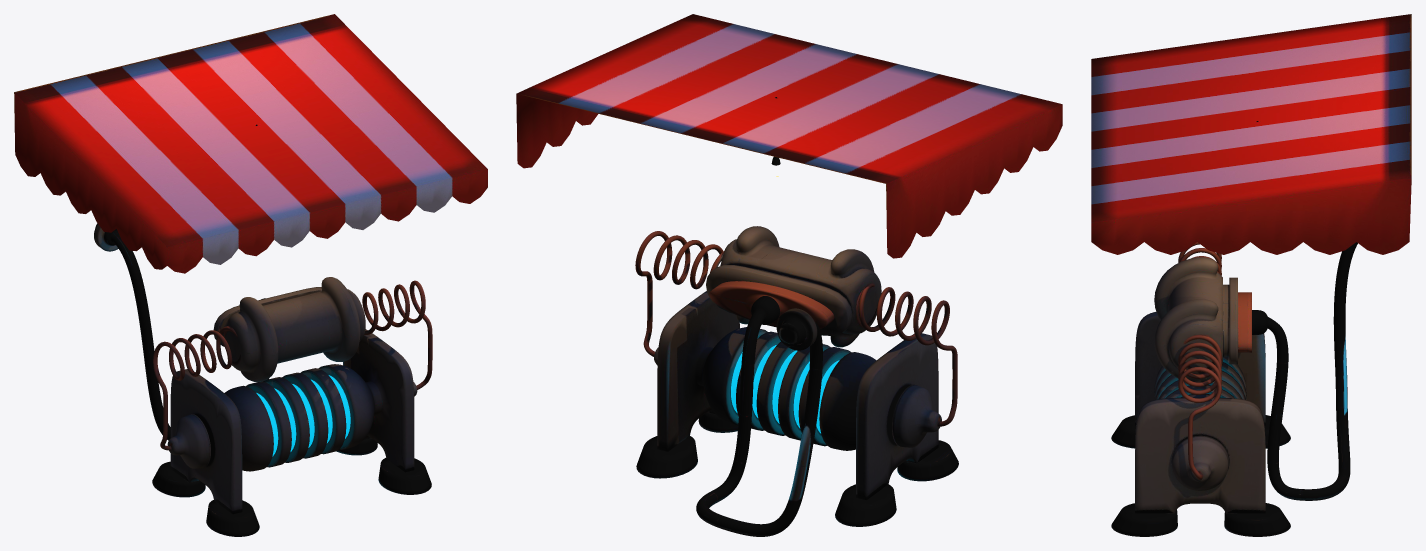
File: generator2.glb
The picture shows the model from 3 angles, left to right: view 1: azimuth 30°, elevation 25°; view 2: azimuth 150°, elevation 25°; view 3: azimuth 270°, elevation 25°; orthographic projection. The views are drawn at different scales.
Parts seen in each view (by area): view 1: An Generator; view 2: An Generator; view 3: An Generator.
Boxes of the visible parts, x1,y1,x2,y2 form: An Generator: (14, 14, 487, 536); An Generator: (516, 14, 1062, 536); An Generator: (1091, 14, 1411, 536).
Size of the model in its own units: 1.73 by 1.88 by 1.43.
Materials: 4 (1 with a texture image).
